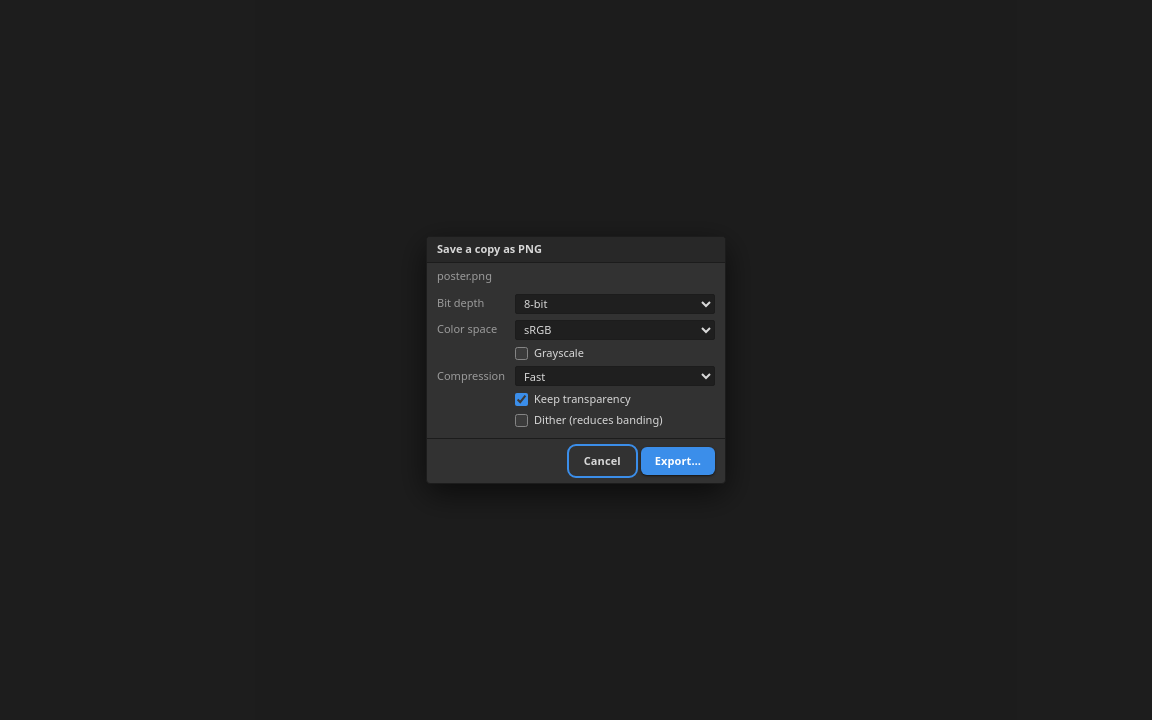
Test: dithering is offered for 8-bit samples only
The image size is (1152, 720).
Check: the button "Export…" is enabled, box x1=641 y1=447 x2=715 y2=475
Check: the checkbox labelled "Dither (reduces banding)" is shown, box x1=515 y1=414 x2=528 y2=427
Step 1. Select "16-bit" in the dropdown labelled "Bit depth" → (615, 304), box x1=515 y1=294 x2=715 y2=314
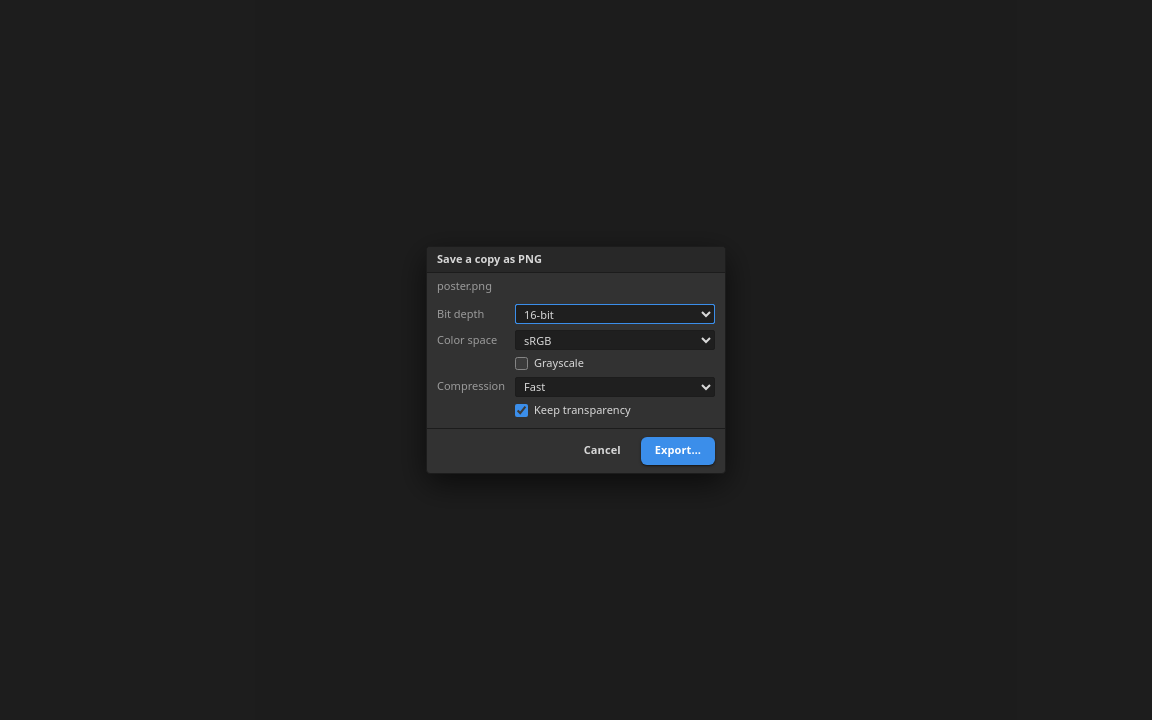
Check: the label "Dither" is gone
